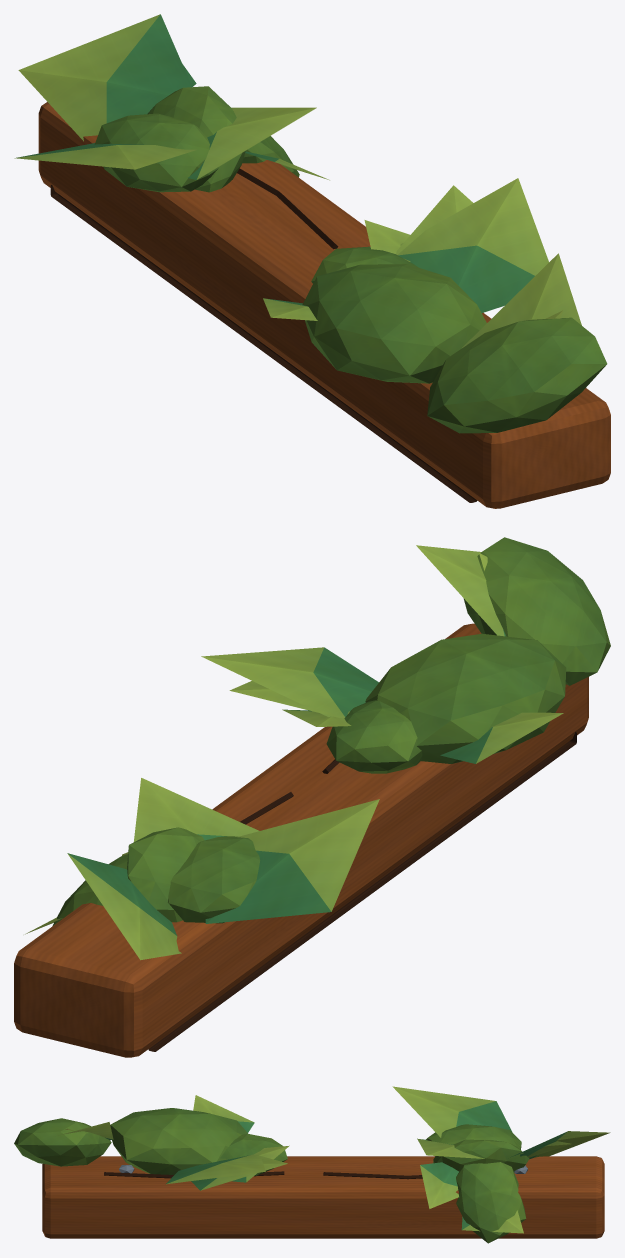
The model's file is forest_bridge_plank.glb.
3 renders of one model, top to bottom at view 1: azimuth 30°, elevation 25°; view 2: azimuth 150°, elevation 25°; view 3: azimuth 270°, elevation 25°, orthographic. The views are drawn at different scales.
Visible parts, largest first — view 1: Bridge deck plank, Woodland shared moss cushion.050, Woodland shared moss cushion.051, Woodland shared curved ivy leaf.017, Woodland shared curved ivy leaf.134, Woodland shared moss cushion.052, Plank edge shadow, Woodland shared curved ivy leaf.135, Woodland shared curved ivy leaf.137, Woodland shared moss cushion.009, Woodland shared curved ivy leaf.138, Woodland shared moss cushion.053 (+5 smaller); view 2: Bridge deck plank, Woodland shared moss cushion.050, Woodland shared moss cushion.051, Woodland shared curved ivy leaf.138, Woodland shared curved ivy leaf.134, Woodland shared moss cushion.052, Woodland shared moss cushion.053, Woodland shared curved ivy leaf.017, Woodland shared moss cushion.009, Woodland shared curved ivy leaf.137, Plank edge shadow, Woodland shared curved ivy leaf.135 (+3 smaller); view 3: Bridge deck plank, Woodland shared moss cushion.050, Woodland shared moss cushion.010, Woodland shared moss cushion.051, Woodland shared curved ivy leaf.138, Woodland shared moss cushion.009, Woodland shared curved ivy leaf.134, Woodland shared curved ivy leaf.020, Woodland shared moss cushion.052, Woodland shared moss cushion.053, Woodland shared curved ivy leaf.017, Woodland shared curved ivy leaf.133 (+8 smaller).
Boxes of the visible parts, <box> form: Bridge deck plank: <box>38,102,610,508</box>; Woodland shared moss cushion.050: <box>302,264,486,383</box>; Woodland shared moss cushion.051: <box>427,317,607,433</box>; Woodland shared curved ivy leaf.017: <box>18,14,191,141</box>; Woodland shared curved ivy leaf.134: <box>397,178,548,312</box>; Woodland shared moss cushion.052: <box>94,113,218,192</box>; Plank edge shadow: <box>50,185,477,502</box>; Woodland shared curved ivy leaf.135: <box>461,253,581,348</box>; Woodland shared curved ivy leaf.137: <box>188,107,316,179</box>; Woodland shared moss cushion.009: <box>147,86,245,192</box>; Woodland shared curved ivy leaf.138: <box>14,143,196,169</box>; Woodland shared moss cushion.053: <box>311,246,418,283</box>; Bridge deck plank: <box>14,623,588,1057</box>; Woodland shared moss cushion.050: <box>365,633,566,763</box>; Woodland shared moss cushion.051: <box>463,537,610,685</box>; Woodland shared curved ivy leaf.138: <box>205,799,379,923</box>; Woodland shared curved ivy leaf.134: <box>201,647,378,717</box>; Woodland shared moss cushion.052: <box>168,836,260,923</box>; Woodland shared moss cushion.053: <box>326,700,422,773</box>; Woodland shared curved ivy leaf.017: <box>67,853,181,960</box>; Woodland shared moss cushion.009: <box>127,827,204,922</box>; Woodland shared curved ivy leaf.137: <box>134,778,258,841</box>; Plank edge shadow: <box>148,732,576,1051</box>; Woodland shared curved ivy leaf.135: <box>416,545,506,636</box>; Bridge deck plank: <box>42,1156,604,1238</box>; Woodland shared moss cushion.050: <box>110,1108,247,1174</box>; Woodland shared moss cushion.010: <box>456,1162,526,1243</box>; Woodland shared moss cushion.051: <box>14,1118,111,1166</box>; Woodland shared curved ivy leaf.138: <box>392,1086,512,1137</box>; Woodland shared moss cushion.009: <box>433,1139,529,1172</box>; Woodland shared curved ivy leaf.134: <box>166,1155,265,1184</box>; Woodland shared curved ivy leaf.020: <box>420,1162,458,1208</box>; Woodland shared moss cushion.052: <box>426,1124,521,1156</box>; Woodland shared moss cushion.053: <box>219,1134,287,1175</box>; Woodland shared curved ivy leaf.017: <box>510,1131,610,1159</box>; Woodland shared curved ivy leaf.133: <box>193,1095,254,1132</box>.
Size of the model in its own units: 0.401 by 0.2345 by 1.06.
Materials: 6 (5 with a texture image).
